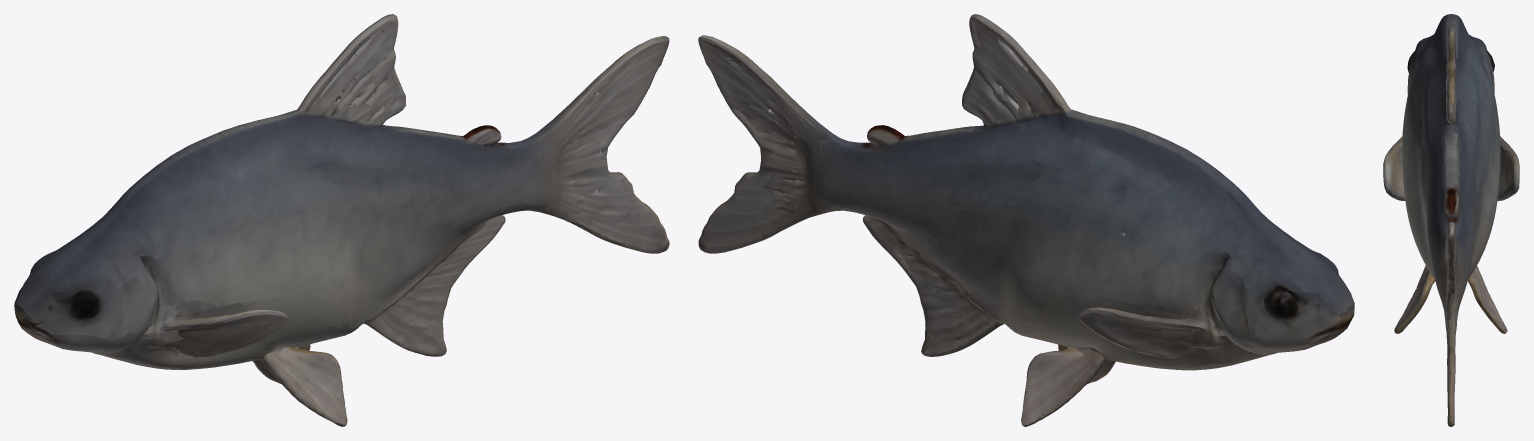
Rendered from fish_taxi_parts.glb.
The picture shows the model from 3 angles, left to right: view 1: azimuth 30°, elevation 25°; view 2: azimuth 150°, elevation 25°; view 3: azimuth 270°, elevation 25°; orthographic projection. The views are drawn at different scales.
Parts seen in each view (by area): view 1: geometry_0; view 2: geometry_0; view 3: geometry_0.
Part boxes in pixels (box(x1,y1,x2,y2)): geometry_0: box(14, 14, 669, 426); geometry_0: box(698, 14, 1354, 426); geometry_0: box(1383, 14, 1519, 426).
Bounding box in the file's own units: 1.6 × 0.8721 × 0.3194.
1 material, 1 textured.
